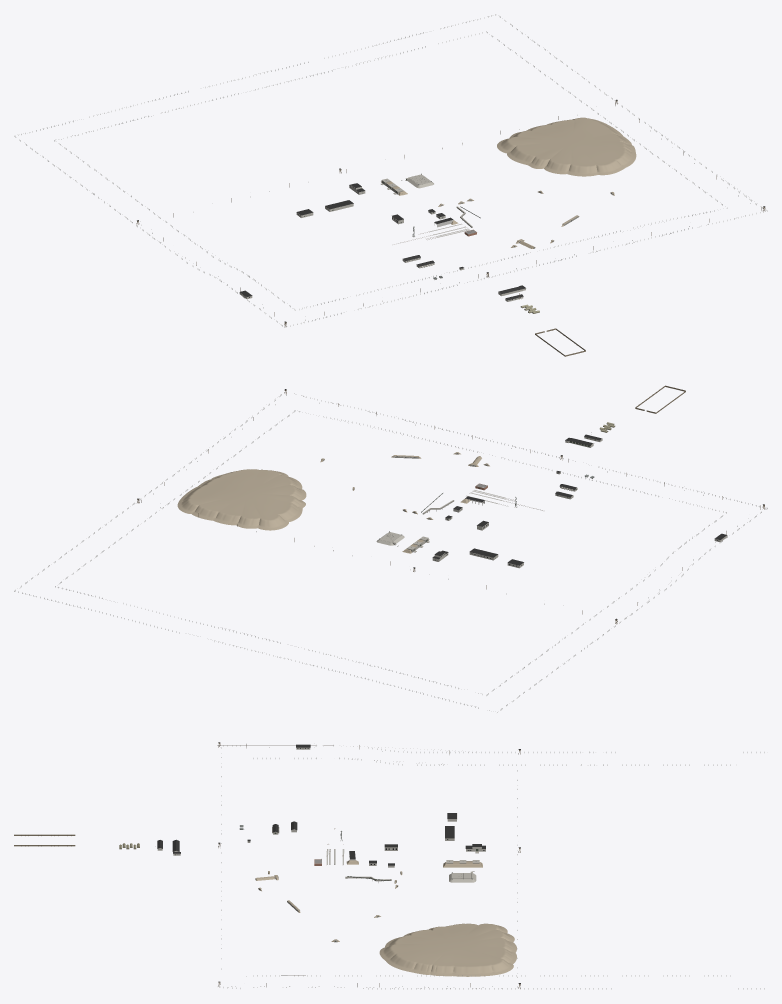
3 renders of one model, top to bottom at view 1: azimuth 30°, elevation 25°; view 2: azimuth 150°, elevation 25°; view 3: azimuth 270°, elevation 25°, orthographic.
Visible parts, largest first — view 1: SpoilHeap_Earth; view 2: SpoilHeap_Earth; view 3: SpoilHeap_Earth.
Boxes of the visible parts, <box> form: SpoilHeap_Earth: <box>497,117,636,176</box>; SpoilHeap_Earth: <box>177,469,306,530</box>; SpoilHeap_Earth: <box>379,923,516,976</box>.
Size of the model in its own units: 922 by 34.08 by 1221.
